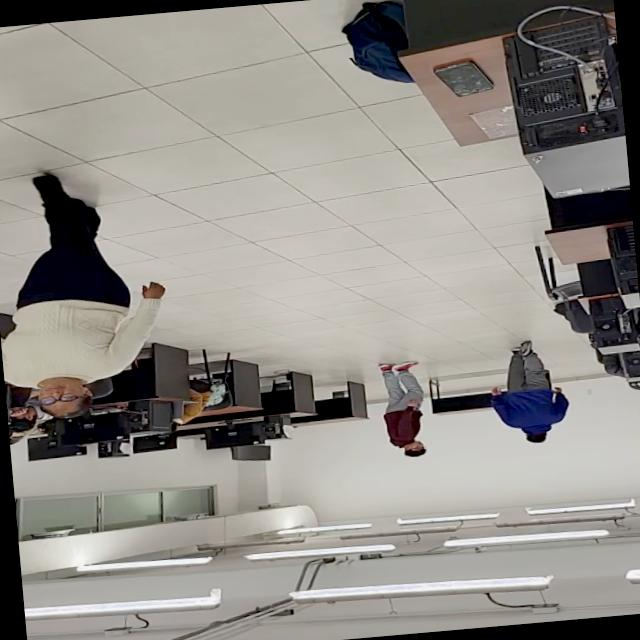Persona: (0, 170, 174, 429), (461, 324, 575, 461), (366, 351, 430, 464)
